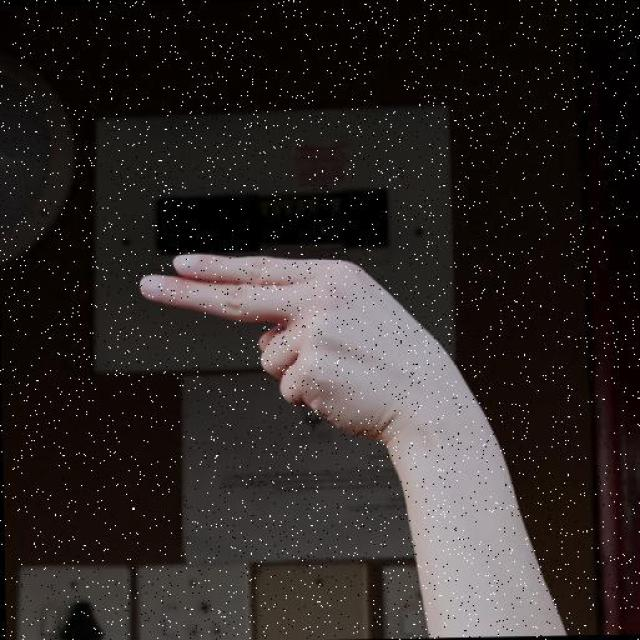H: (137, 250, 480, 446)
